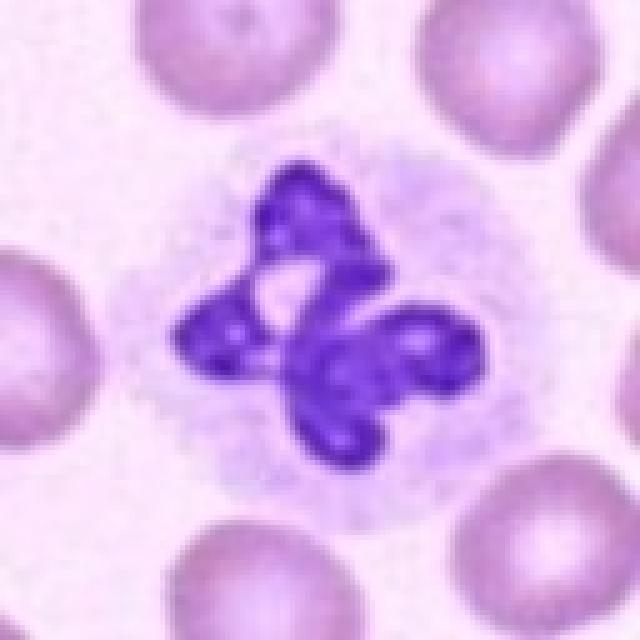neutro: (89, 102, 574, 517)
